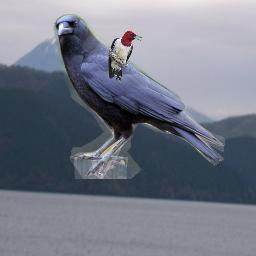Crow: (51, 14, 225, 179)
Woodpecker: (107, 31, 143, 82)
